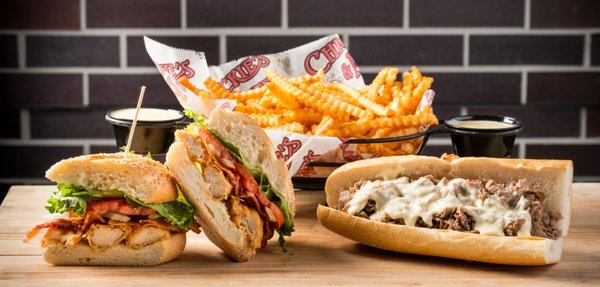soup: (164, 106, 296, 263), (25, 151, 195, 267)
sushi: (445, 115, 523, 157)
